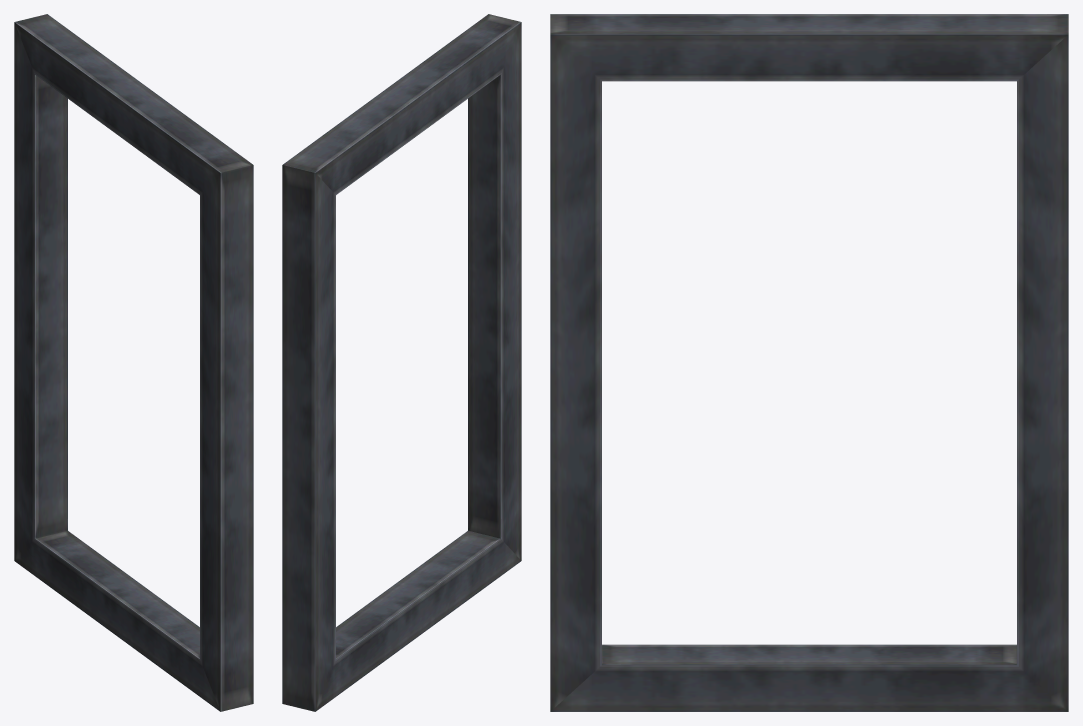
File: ventFrame_tall.fbx
3 views of the same model, side by side, from view 1: azimuth 30°, elevation 25°; view 2: azimuth 150°, elevation 25°; view 3: azimuth 270°, elevation 25° (orthographic). The views are drawn at different scales.
Parts seen in each view (by area): view 1: ventFrame_tall; view 2: ventFrame_tall; view 3: ventFrame_tall.
Part boxes in pixels (x1=…): ventFrame_tall: x1=14, y1=14, x2=253, y2=711; ventFrame_tall: x1=282, y1=14, x2=521, y2=711; ventFrame_tall: x1=550, y1=14, x2=1068, y2=711.
Size of the model in its own units: 0.2097 by 3.26 by 2.26.
